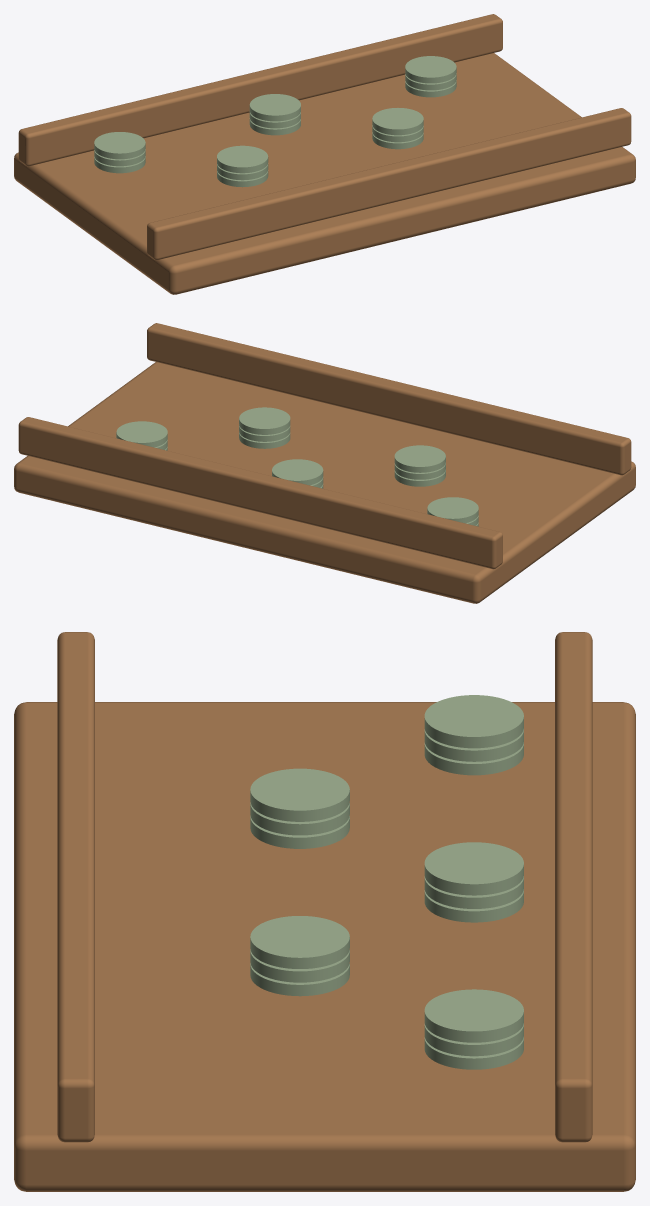
Rendered from desert-caravanserai-and-bazaar-coin-counting-board-68d39f7f__30466.glb.
3 renders of one model, top to bottom at view 1: azimuth 30°, elevation 25°; view 2: azimuth 150°, elevation 25°; view 3: azimuth 270°, elevation 25°, orthographic. The views are drawn at different scales.
Parts seen in each view (by area): view 1: coin-counting-board; view 2: coin-counting-board; view 3: coin-counting-board.
Part boxes in pixels (box(x1,y1,x2,y2)): coin-counting-board: box(14, 14, 635, 294); coin-counting-board: box(14, 323, 635, 603); coin-counting-board: box(14, 632, 635, 1191).
Size of the model in its own units: 0.43 by 0.053 by 0.25.
